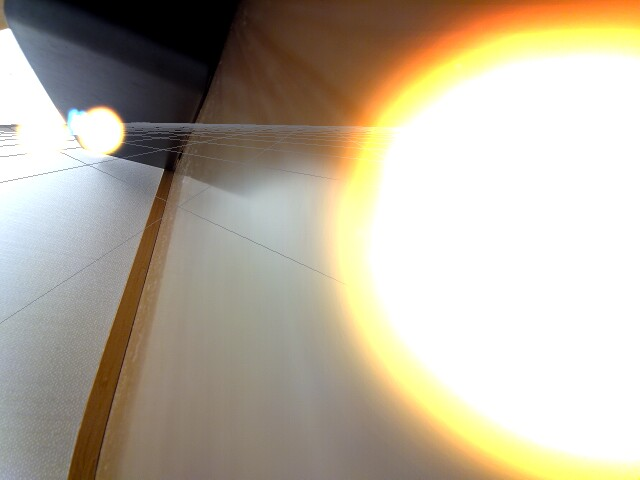firebig: (331, 14, 640, 479)
